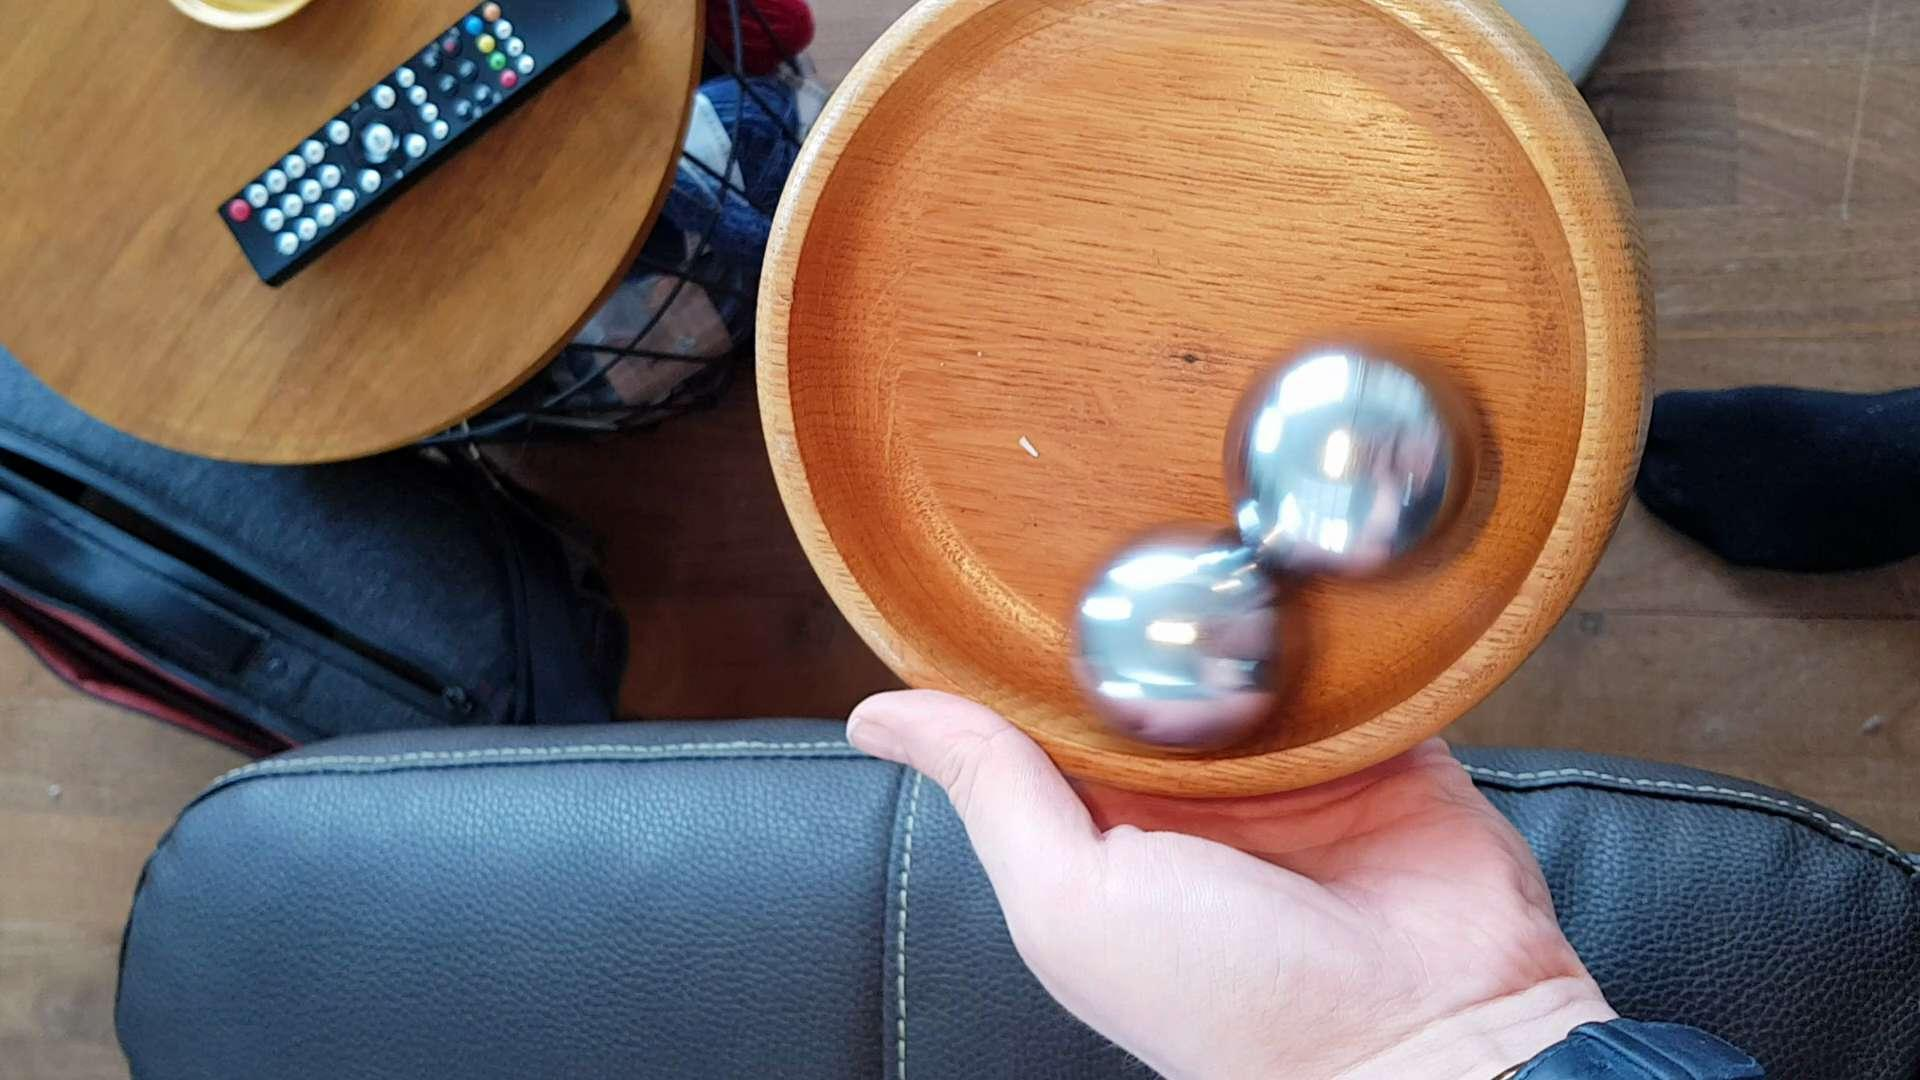sphere: (1218, 339, 1490, 600), (1063, 521, 1313, 742)
